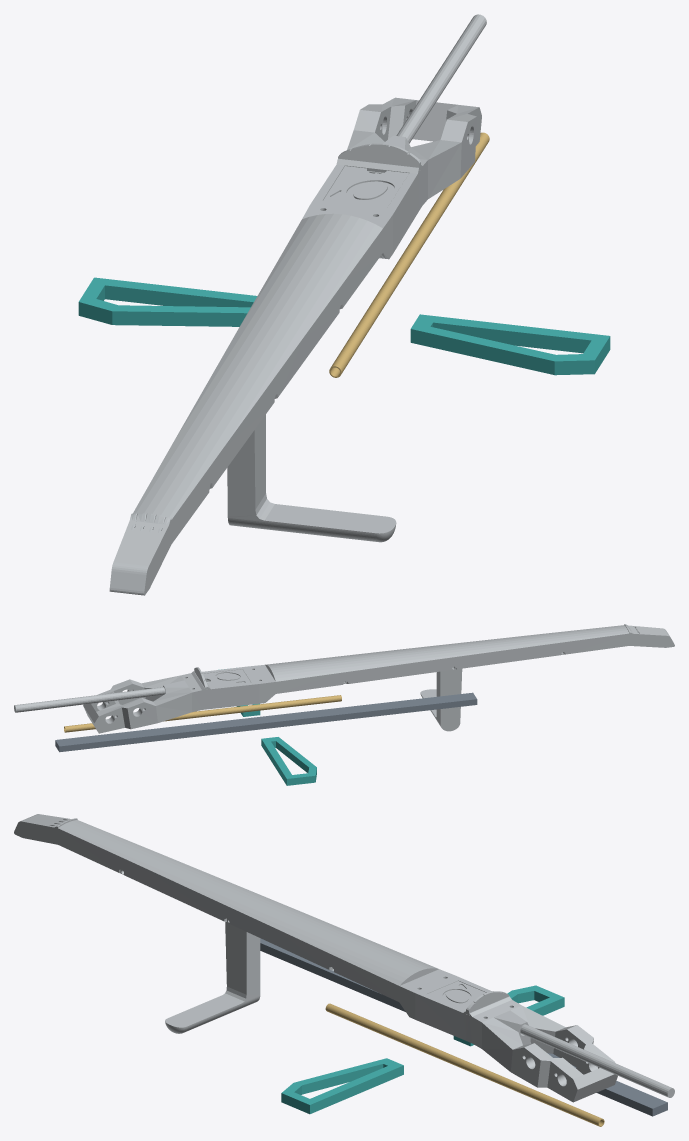
The model's file is transition_study.glb.
The picture shows the model from 3 angles, top to bottom: view 1: azimuth 30°, elevation 25°; view 2: azimuth 150°, elevation 25°; view 3: azimuth 270°, elevation 25°; orthographic projection. The views are drawn at different scales.
Visible parts, largest first — view 1: Part 3, wing_1, Part 1, Part 2, Part 6, Chest rest, Part 4, wing_-1, ENDPIN_STOW_ASSUMED, Part 5, Nameplate, Center bar (+1 smaller); view 2: METAL_RAIL_ENVELOPE_unresolved, Part 6, Part 3, Part 2, Part 4, Part 1, Part 5, wing_-1, ENDPIN_STOW_ASSUMED, Chest rest, Center bar, Nameplate; view 3: Part 6, Part 3, Part 4, Part 2, Chest rest, Part 1, wing_1, Part 5, ENDPIN_STOW_ASSUMED, METAL_RAIL_ENVELOPE_unresolved, Center bar, wing_-1 (+1 smaller).
Boxes of the visible parts, x1,y1,x2,y2 form: Part 3: (218,270,343,402); wing_1: (410,314,610,375); Part 1: (109,455,212,595); Part 2: (165,363,278,486); Part 6: (347,97,481,204); Chest rest: (227,414,396,542); Part 4: (270,205,392,306); wing_-1: (78,277,257,326); ENDPIN_STOW_ASSUMED: (329,132,489,377); Part 5: (310,158,427,258); Nameplate: (323,166,408,207); Center bar: (373,14,486,173); METAL_RAIL_ENVELOPE_unresolved: (55,692,477,752); Part 6: (83,675,201,733); Part 3: (333,645,450,683); Part 2: (443,632,566,669); Part 4: (248,657,349,702); Part 1: (554,624,674,654); Part 5: (181,666,265,709); wing_-1: (261,737,316,785); ENDPIN_STOW_ASSUMED: (64,695,341,732); Chest rest: (420,668,462,731); Center bar: (14,681,210,712); Nameplate: (203,669,250,687); Part 6: (472,1005,617,1102); Part 3: (223,894,370,972); Part 4: (335,940,455,1016); Part 2: (125,849,259,920); Chest rest: (165,922,260,1033); Part 1: (14,814,147,875); wing_1: (281,1058,403,1114); Part 5: (409,976,521,1043); ENDPIN_STOW_ASSUMED: (325,1003,604,1126); METAL_RAIL_ENVELOPE_unresolved: (260,938,667,1116); Center bar: (520,1024,674,1097); wing_-1: (453,985,564,1046).
Size of the model in its own units: 771 by 148 by 771.
